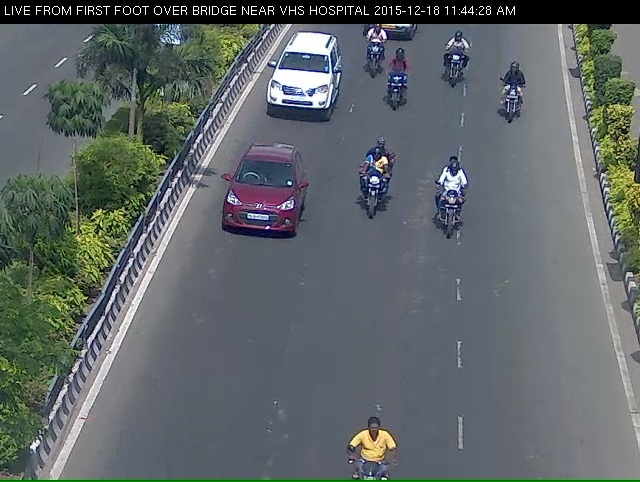Car: (208, 151, 310, 262), (254, 38, 349, 137)
Person: (426, 159, 476, 255), (348, 154, 396, 240), (437, 36, 473, 97), (383, 47, 408, 130), (500, 74, 528, 136), (356, 29, 381, 82)
